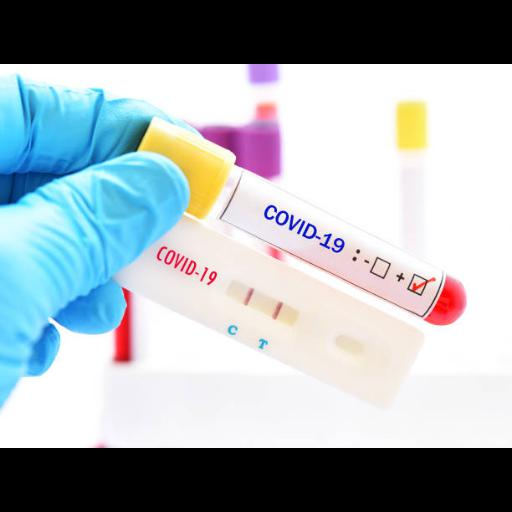Pos: (109, 202, 428, 415)
